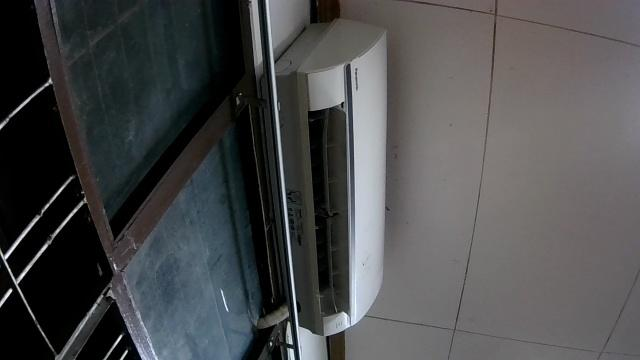AC: (258, 15, 389, 336)
